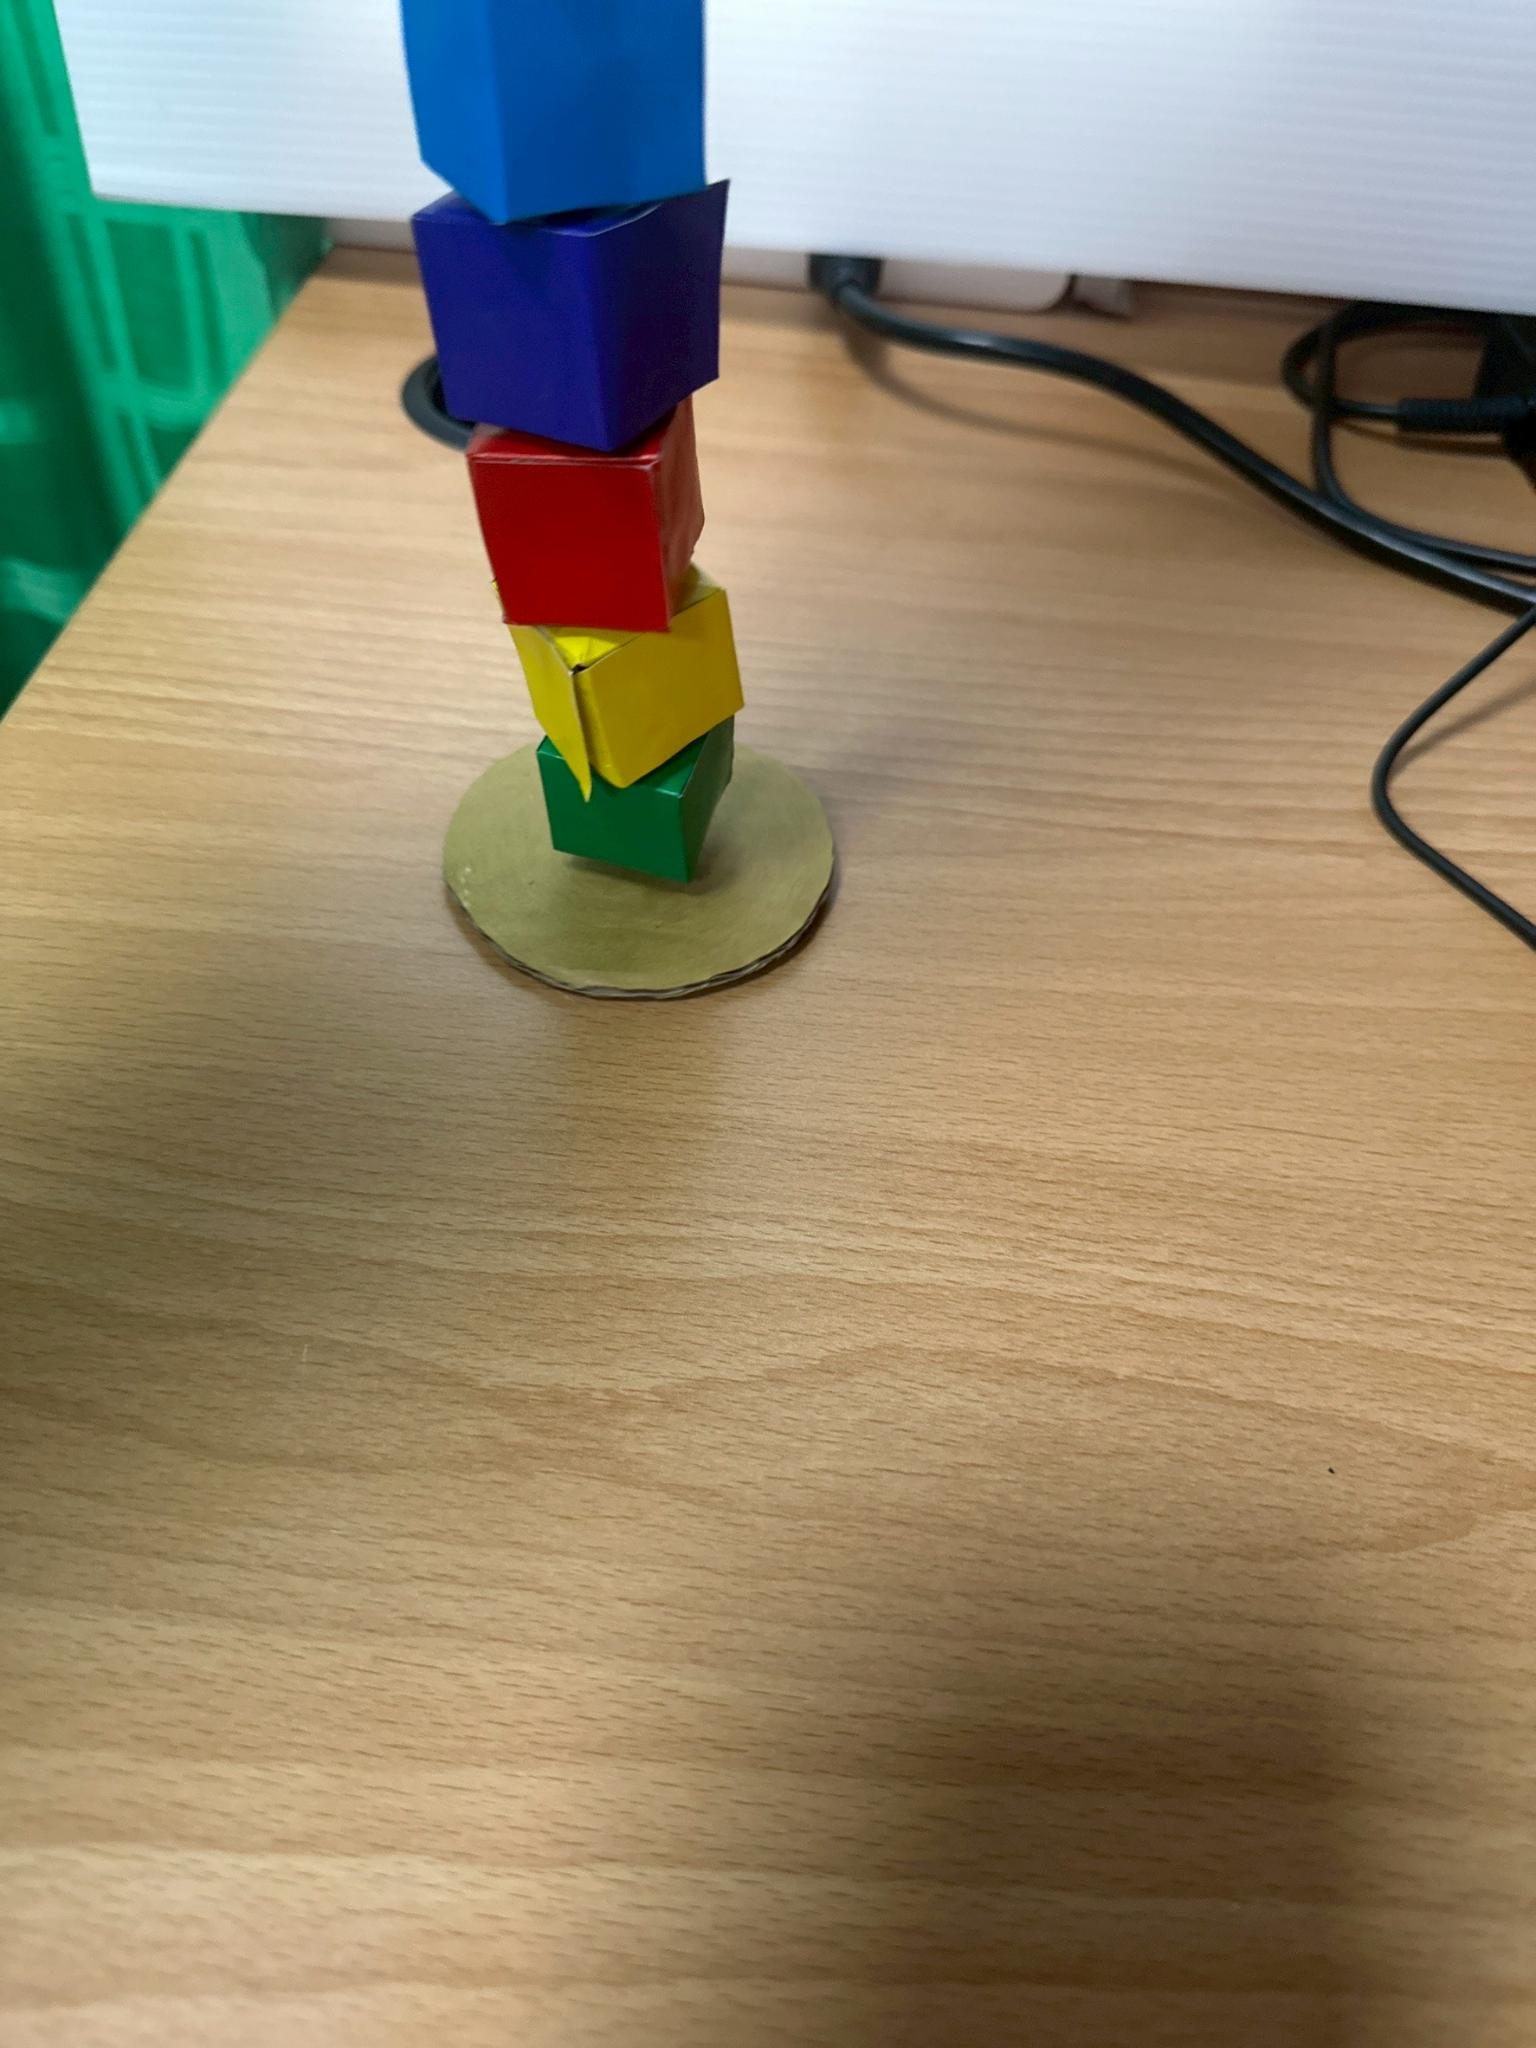base: (444, 747, 834, 997)
